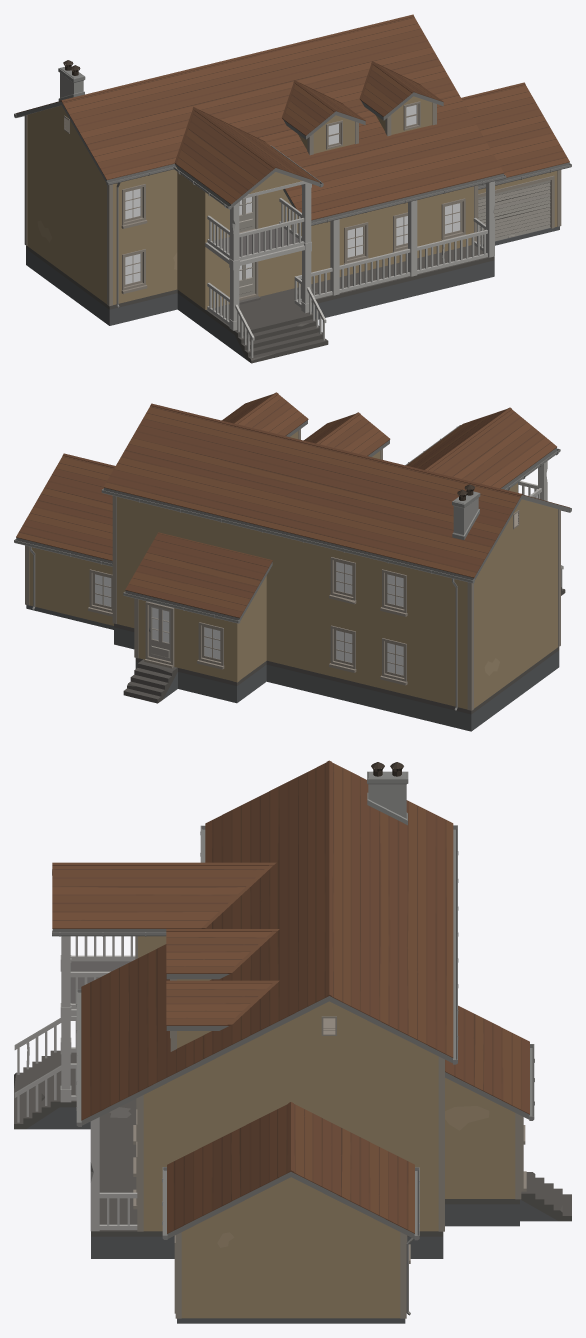
The model's file is SM_Bldg_Suburb_House_06.fbx.
3 renders of one model, top to bottom at view 1: azimuth 30°, elevation 25°; view 2: azimuth 150°, elevation 25°; view 3: azimuth 270°, elevation 25°, orthographic. The views are drawn at different scales.
Visible parts, largest first — view 1: SM_Bldg_Suburb_House_06, SM_Bldg_Suburb_House_06_Glass; view 2: SM_Bldg_Suburb_House_06, SM_Bldg_Suburb_House_06_Glass; view 3: SM_Bldg_Suburb_House_06.
Part boxes in pixels (x1,y1,x2,y2): SM_Bldg_Suburb_House_06: [14, 14, 571, 363]; SM_Bldg_Suburb_House_06_Glass: [125, 105, 460, 284]; SM_Bldg_Suburb_House_06: [14, 392, 571, 731]; SM_Bldg_Suburb_House_06_Glass: [95, 562, 403, 675]; SM_Bldg_Suburb_House_06: [14, 760, 571, 1323].
Size of the model in its own units: 2313 by 1038 by 1822.
